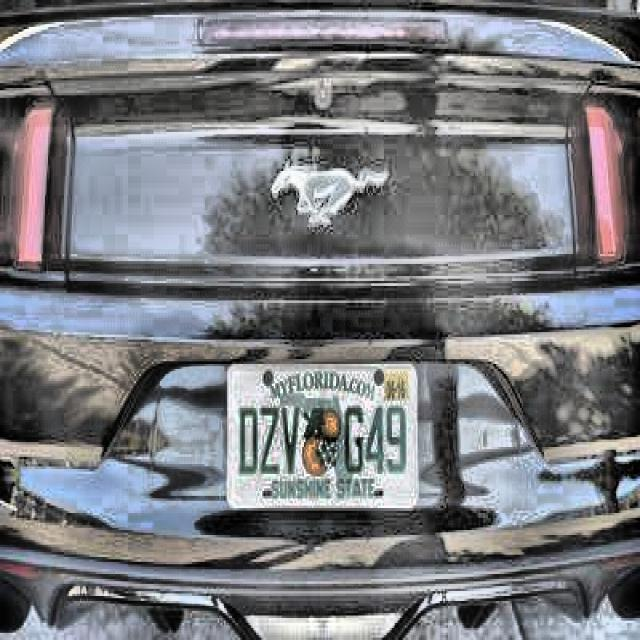license_plate: (228, 367, 414, 506)
